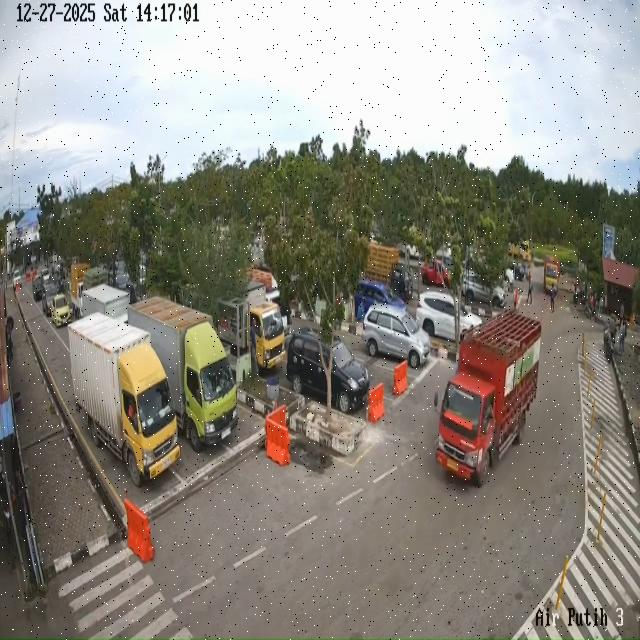Golongan IVA: (286, 328, 370, 413), (363, 305, 430, 369), (416, 291, 482, 341), (354, 279, 406, 314), (462, 272, 506, 308), (51, 293, 71, 328), (42, 280, 60, 316), (32, 274, 45, 302)
Golongan VB: (434, 309, 542, 486), (69, 314, 180, 486), (128, 297, 238, 452), (216, 280, 286, 380), (543, 256, 560, 292)
